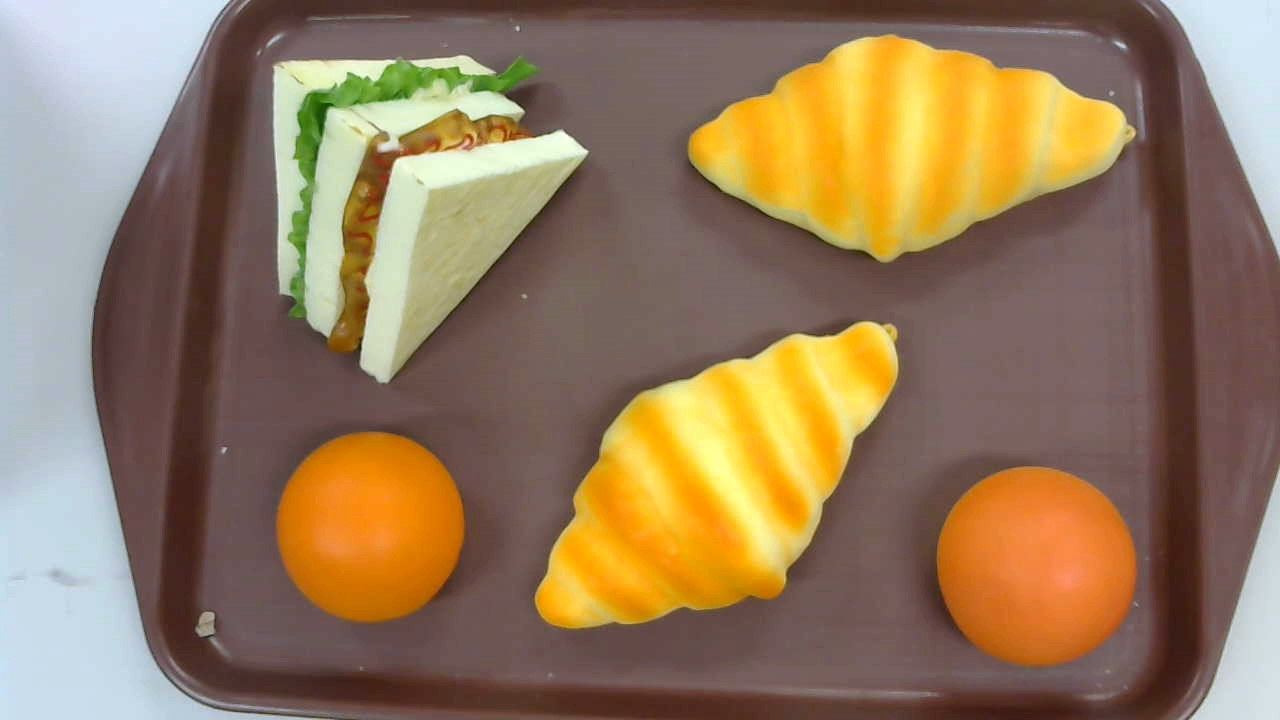bun: (934, 466, 1135, 668), (275, 432, 465, 622)
croissant: (533, 320, 898, 630), (687, 34, 1136, 265)
sandwich: (271, 53, 590, 385)
